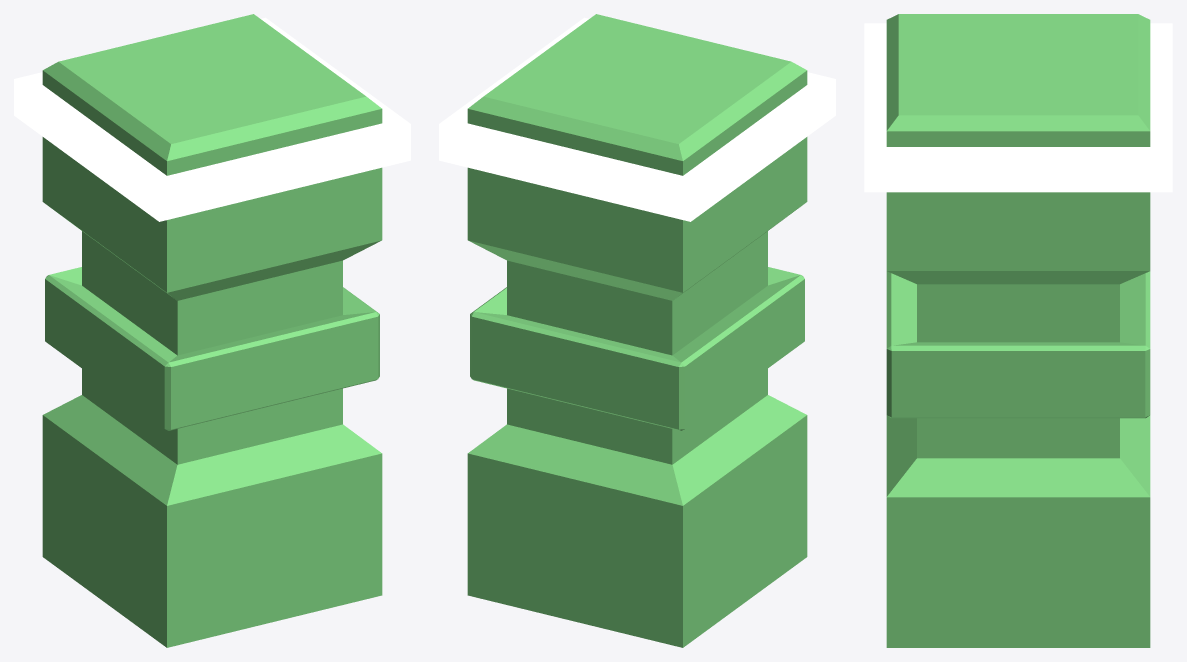
Rendered from Prop1.fbx.
The picture shows the model from 3 angles, left to right: view 1: azimuth 30°, elevation 25°; view 2: azimuth 150°, elevation 25°; view 3: azimuth 270°, elevation 25°; orthographic projection. The views are drawn at different scales.
Visible parts, largest first — view 1: Cube; view 2: Cube; view 3: Cube.
Boxes of the visible parts, x1,y1,x2,y2 form: Cube: (14,14,410,647); Cube: (439,14,835,647); Cube: (864,14,1172,647).
Bounding box in the file's own units: 234 × 441 × 234.
